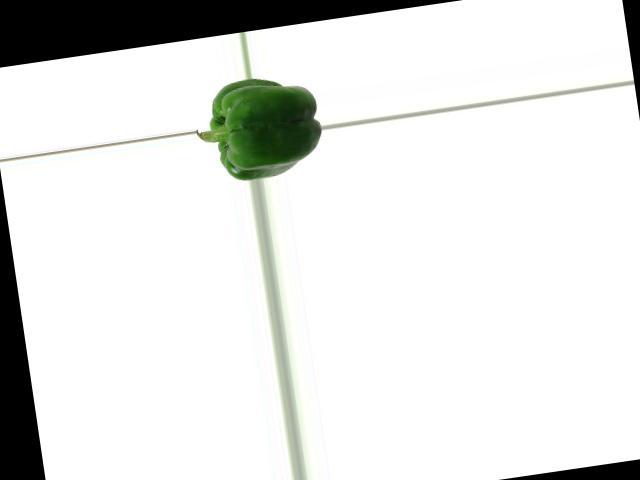bell_pepper: (192, 70, 327, 184)
